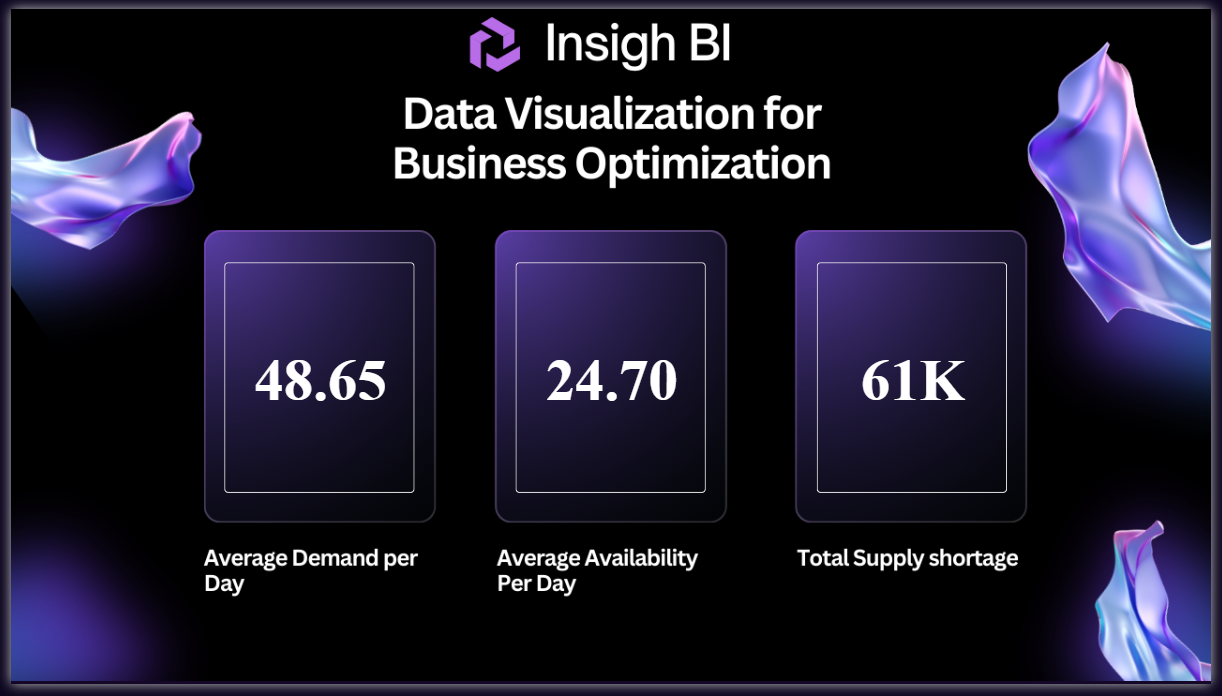

What the dashboard file says about the page in this screenshot:
{"tool":"powerbi","page":{"name":"Page 1","canvas":[1280,720],"ordinal":0},"visuals":[{"type":"cardVisual","fields":{"Data":["Measures Table.Average Demand per Day"]},"box":[210,252.9,237.1,280],"z":0},{"type":"cardVisual","fields":{"Data":["Measures Table.Average Availability per Day"]},"box":[521.7,252.9,237.1,280],"z":1000},{"type":"cardVisual","fields":{"Data":["Measures Table.Total Suply Shortage"]},"box":[842.3,252.9,237.1,280],"z":2000}]}

Visuals, with their boxes in screenshot pixels (x1, y1, x2, y2), scaled from the page's 1280x720 canvas onto the 1222x696 screenshot:
cardVisual - Measures Table.Average Demand per Day: [left=200, top=244, right=427, bottom=515]
cardVisual - Measures Table.Average Availability per Day: [left=498, top=244, right=724, bottom=515]
cardVisual - Measures Table.Total Suply Shortage: [left=804, top=244, right=1030, bottom=515]
